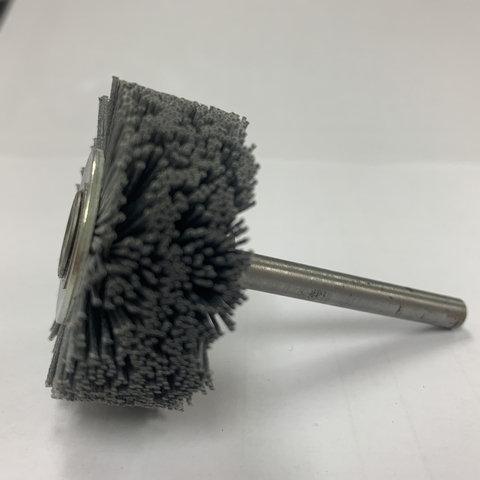Wheel Brush: (25, 66, 480, 418), (6, 74, 439, 401), (53, 88, 442, 402), (61, 32, 288, 436)
